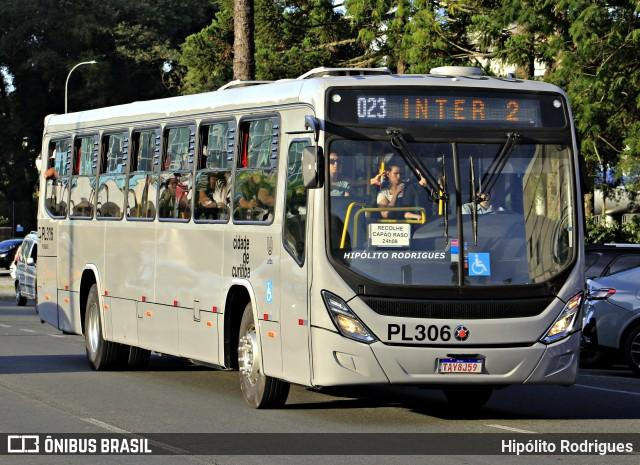INTER 2: (397, 95, 522, 123)
